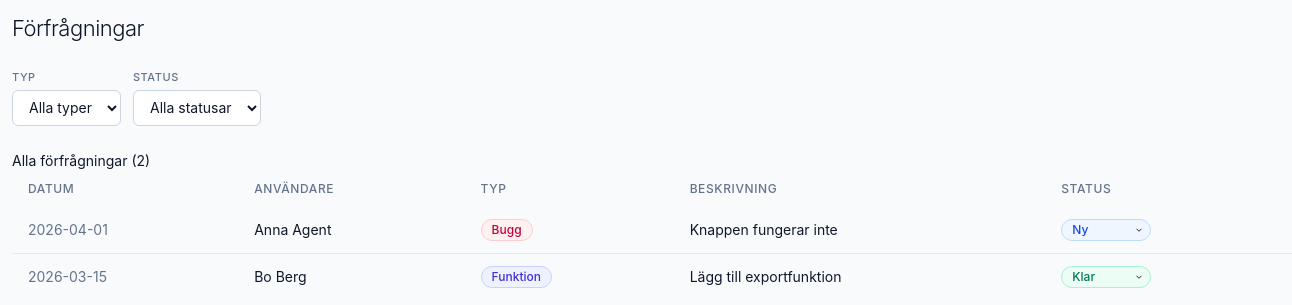
Test: AdminRequestsPage › filters by status
Select "Ny" in the 2nd dropdown showing "Alla statusar" at (197,108), box [133, 90, 261, 126]
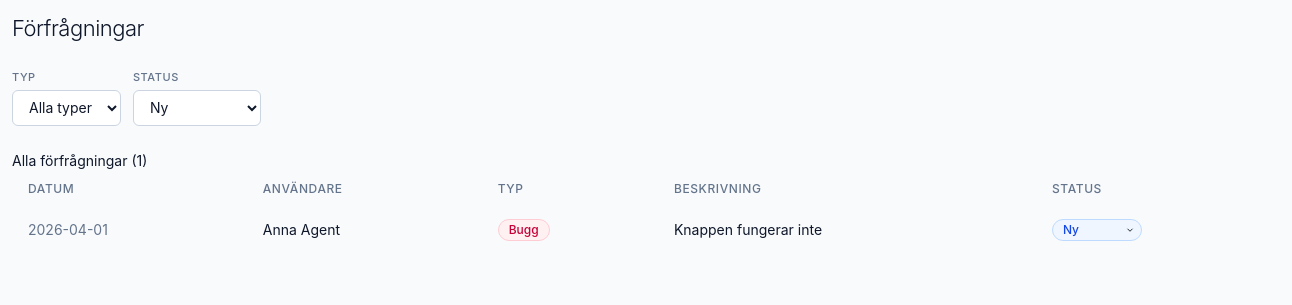
Check: the text "Knappen fungerar inte" is shown, box [674, 220, 822, 238]
Check: the text "Lägg till exportfunktion" is gone
